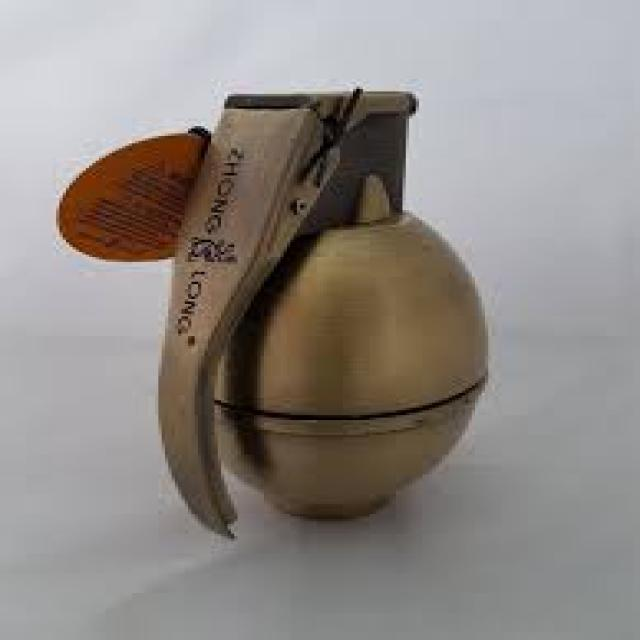grenade: (154, 83, 497, 546)
